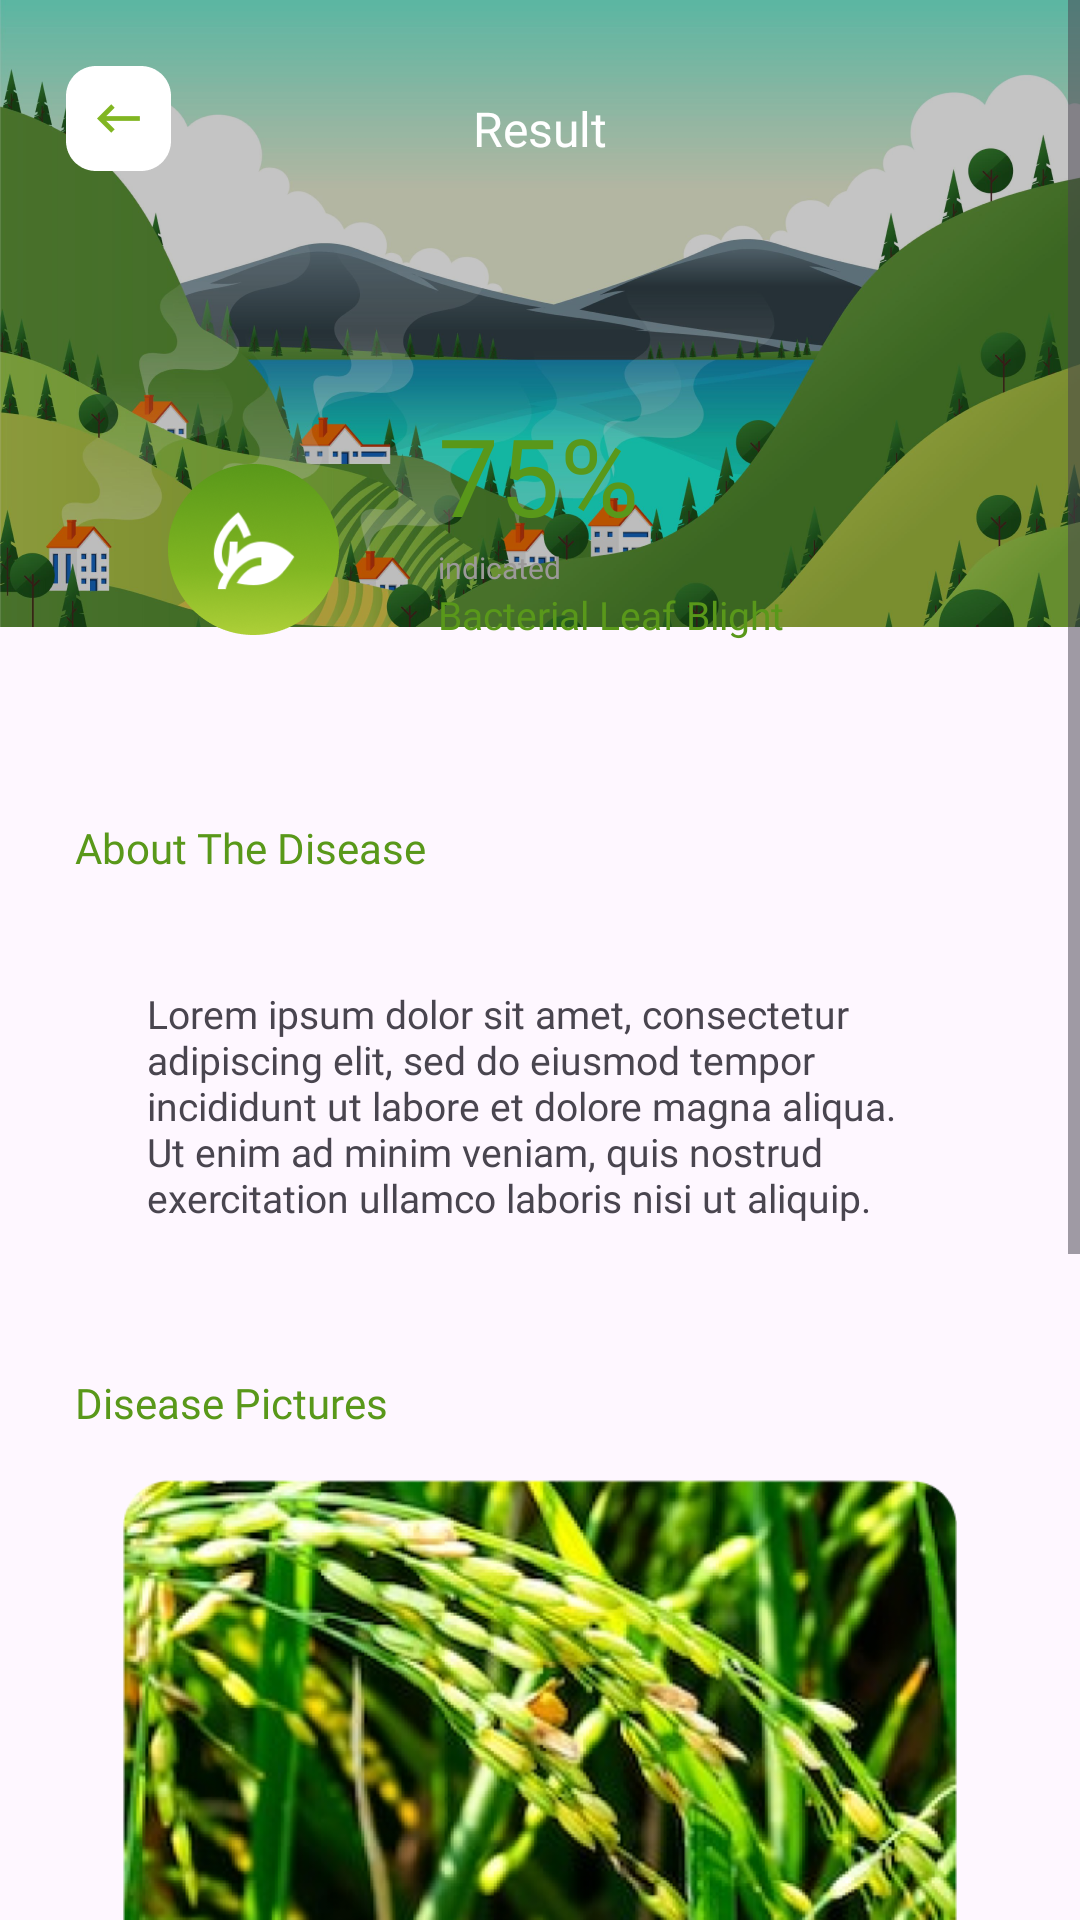

Point at icon controls on the screen. Image size 1080px x 1920px, points as (x,y).
back: (118,118)
